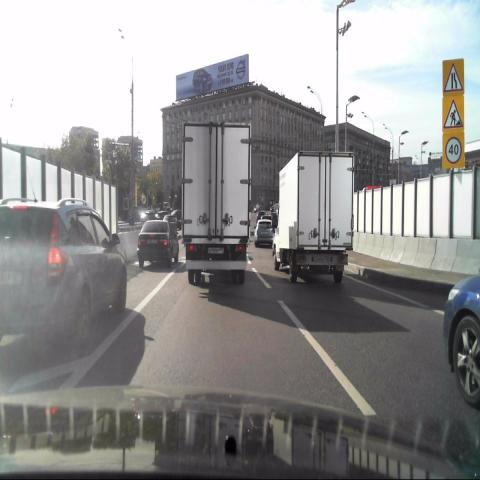1_20_2: (442, 59, 464, 94)
1_25: (442, 95, 464, 129)
3_24: (442, 133, 465, 168)
